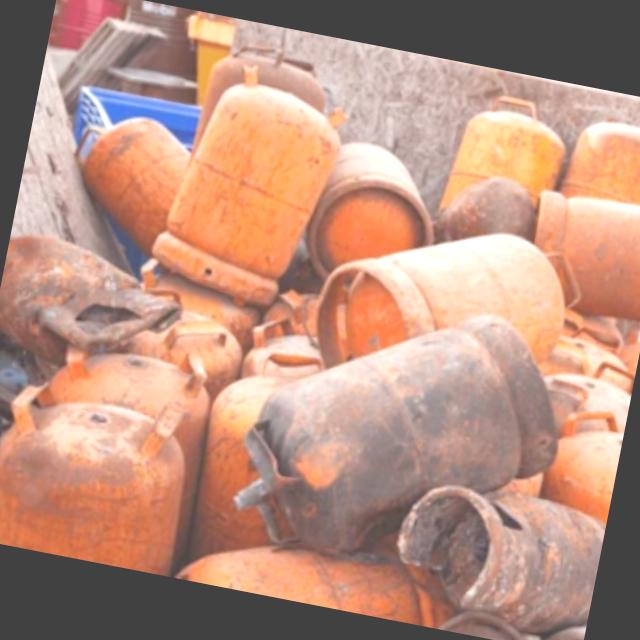Cylinders: (233, 312, 559, 547), (149, 68, 354, 315)
